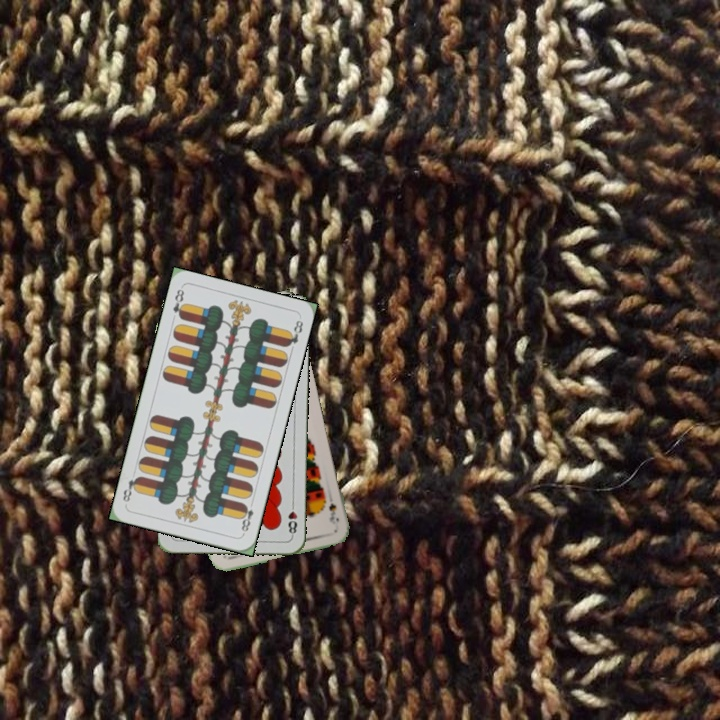E8: (237, 497, 256, 537), (169, 285, 188, 322)
H8: (284, 498, 299, 539)
S9: (325, 499, 342, 527)
